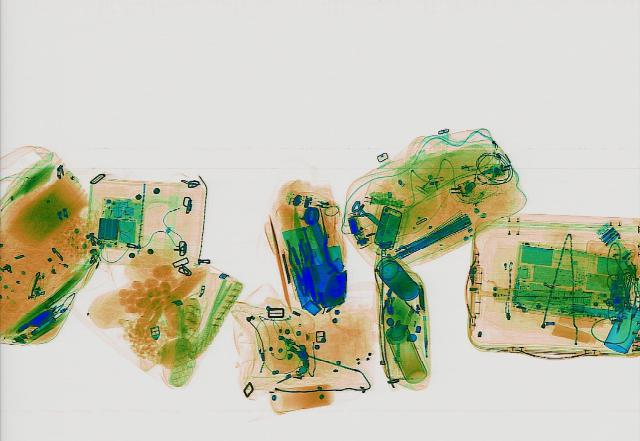Pliers: (282, 238, 316, 295)
